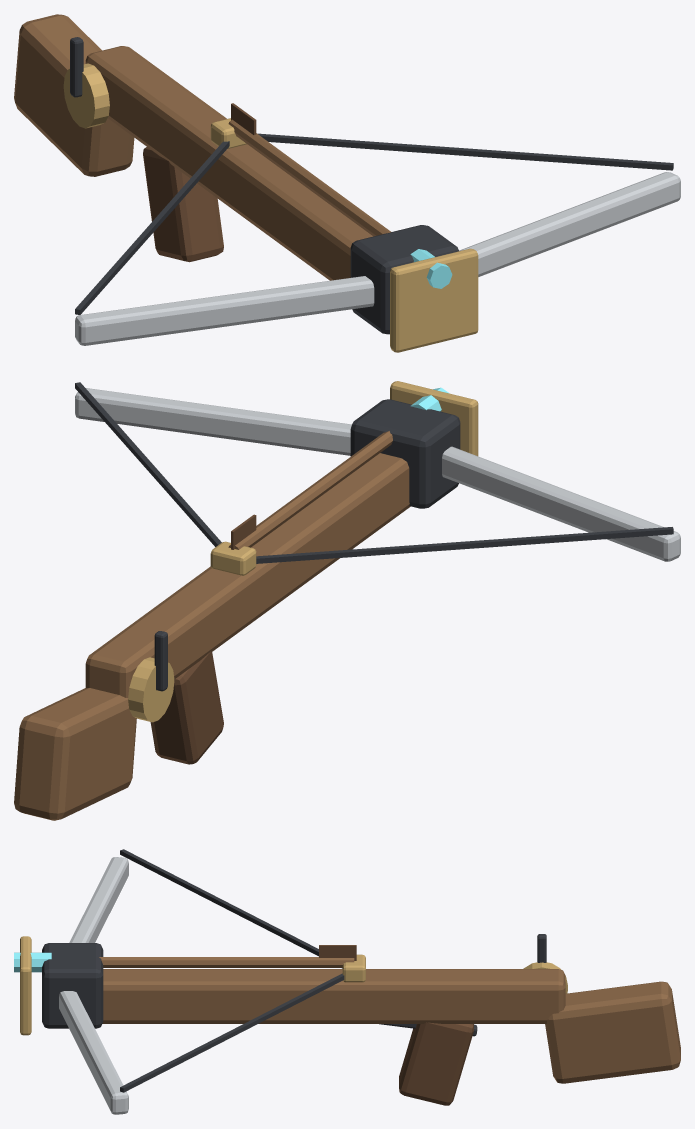
The model's file is Arbalete_Lourde.fbx.
3 renders of one model, top to bottom at view 1: azimuth 30°, elevation 25°; view 2: azimuth 150°, elevation 25°; view 3: azimuth 270°, elevation 25°, orthographic. The views are drawn at different scales.
Parts seen in each view (by area): view 1: Arbalete_Lourde_Bois, Arbalete_Lourde_Acier, Arbalete_Lourde_Metal, Arbalete_Lourde_Laiton, Arbalete_Lourde_Cuir, Arbalete_Lourde_Noyau; view 2: Arbalete_Lourde_Bois, Arbalete_Lourde_Acier, Arbalete_Lourde_Metal, Arbalete_Lourde_Cuir, Arbalete_Lourde_Laiton; view 3: Arbalete_Lourde_Bois, Arbalete_Lourde_Metal, Arbalete_Lourde_Acier, Arbalete_Lourde_Cuir, Arbalete_Lourde_Laiton, Arbalete_Lourde_Noyau.
Part boxes in pixels (x1=…): Arbalete_Lourde_Bois: x1=14, y1=14, x2=390, y2=280; Arbalete_Lourde_Acier: x1=75, y1=172, x2=680, y2=345; Arbalete_Lourde_Metal: x1=70, y1=37, x2=673, y2=334; Arbalete_Lourde_Laiton: x1=63, y1=63, x2=478, y2=352; Arbalete_Lourde_Cuir: x1=143, y1=103, x2=256, y2=262; Arbalete_Lourde_Noyau: x1=410, y1=249, x2=452, y2=288; Arbalete_Lourde_Bois: x1=14, y1=431, x2=410, y2=820; Arbalete_Lourde_Acier: x1=75, y1=388, x2=680, y2=561; Arbalete_Lourde_Metal: x1=75, y1=382, x2=673, y2=691; Arbalete_Lourde_Cuir: x1=150, y1=514, x2=256, y2=764; Arbalete_Lourde_Laiton: x1=128, y1=381, x2=478, y2=722; Arbalete_Lourde_Bois: x1=99, y1=957, x2=680, y2=1083; Arbalete_Lourde_Metal: x1=42, y1=849, x2=546, y2=1092; Arbalete_Lourde_Acier: x1=59, y1=857, x2=128, y2=1114; Arbalete_Lourde_Cuir: x1=319, y1=945, x2=473, y2=1105; Arbalete_Lourde_Laiton: x1=20, y1=936, x2=567, y2=1035; Arbalete_Lourde_Noyau: x1=14, y1=952, x2=51, y2=972.
Bounding box in the file's own units: 242 × 72.65 × 284.
